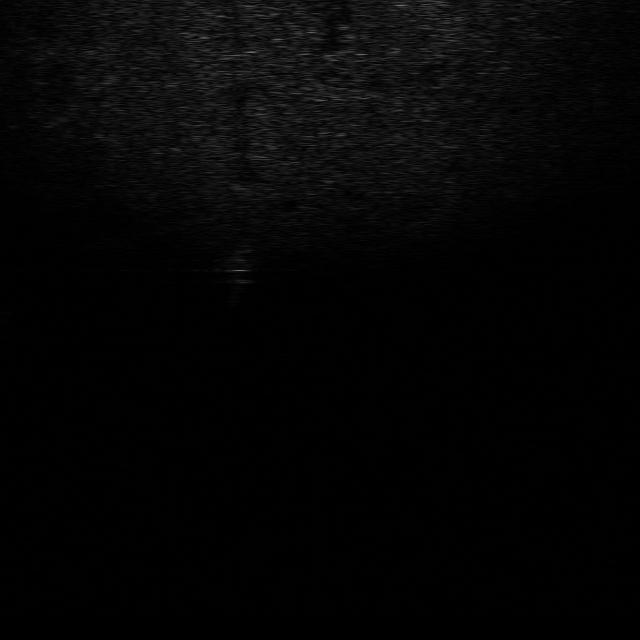human body: (228, 240, 254, 307)
